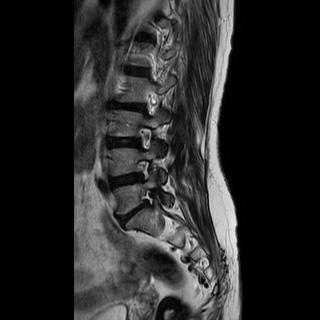RFS0: (131, 123, 157, 156), (131, 154, 156, 185)
